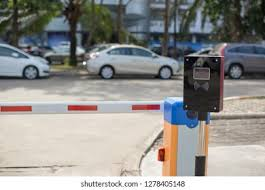car: (84, 45, 180, 79), (208, 45, 265, 80), (1, 41, 51, 79)
